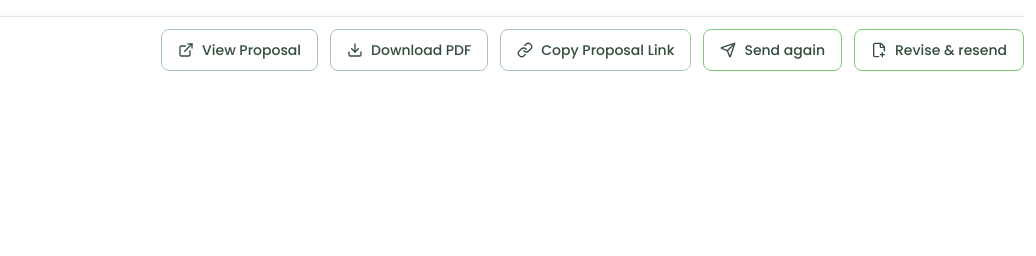
Scenario: Revise & resend — the discoverable path off an accepted quote › explains that the accepted version survives and is not re-sent
The width and height of the screenshot is (1036, 256).
Click the button "Revise & resend". click: (939, 50)
box: [854,29,1024,71]
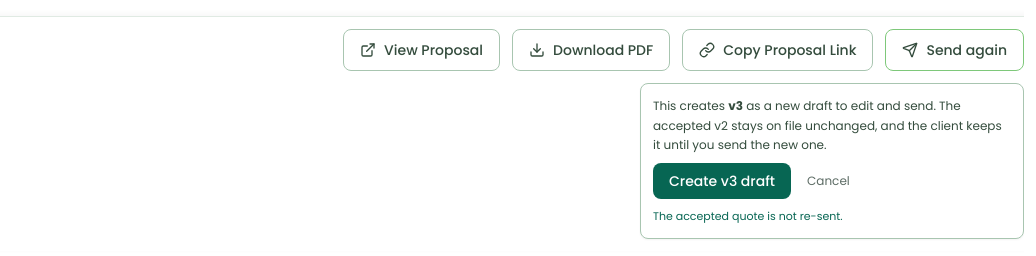
Result: the text "stays on file unchanged" is shown at [653,116,1002,153]
Result: the text "The accepted quote is not re-sent." is shown at [653,208,843,224]
Result: the button "Create v3 draft" is shown at [653,162,791,198]
